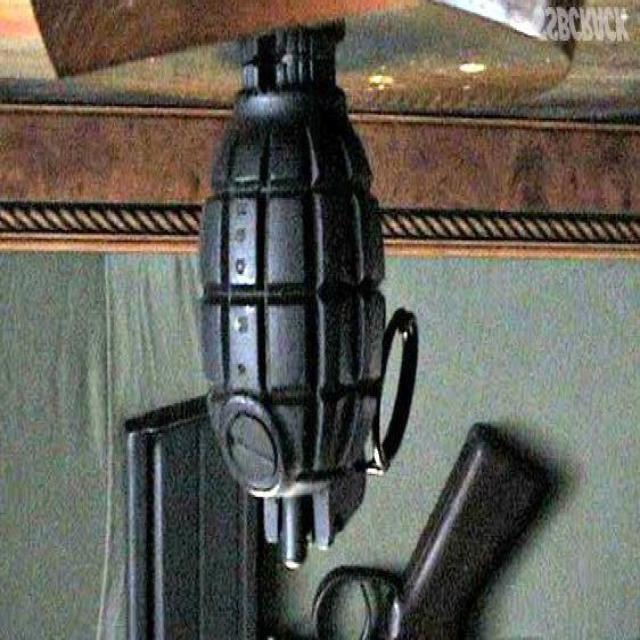grenade: (198, 52, 421, 569), (127, 424, 513, 640)
